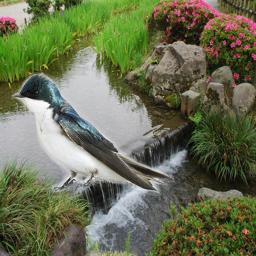Swallow: (11, 71, 174, 196)
